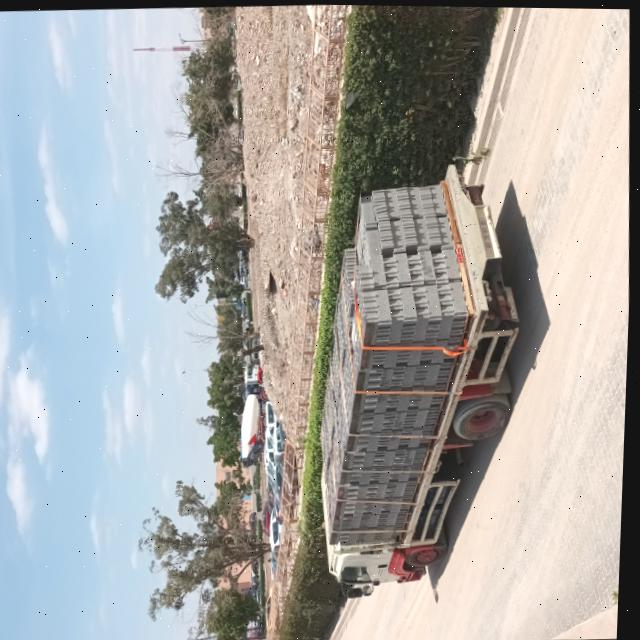bricks: (321, 183, 490, 576)
